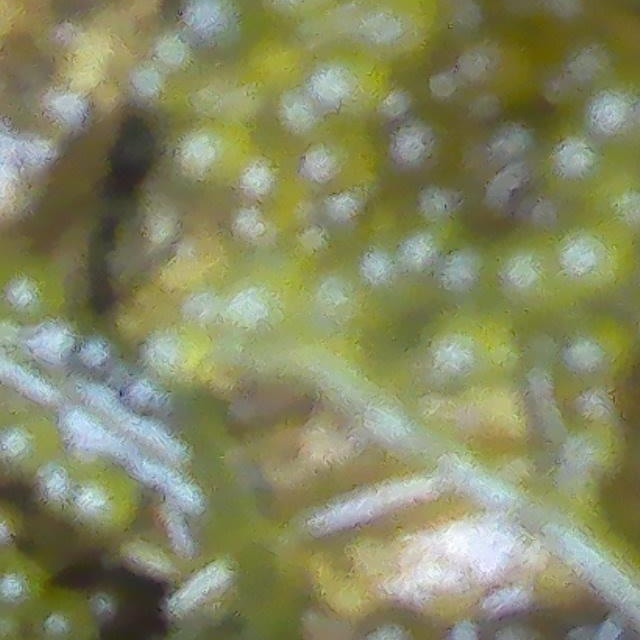SeaGrape: (422, 298, 523, 397), (560, 305, 640, 391), (495, 239, 566, 322), (562, 225, 628, 296), (182, 0, 262, 58), (546, 133, 604, 192)
